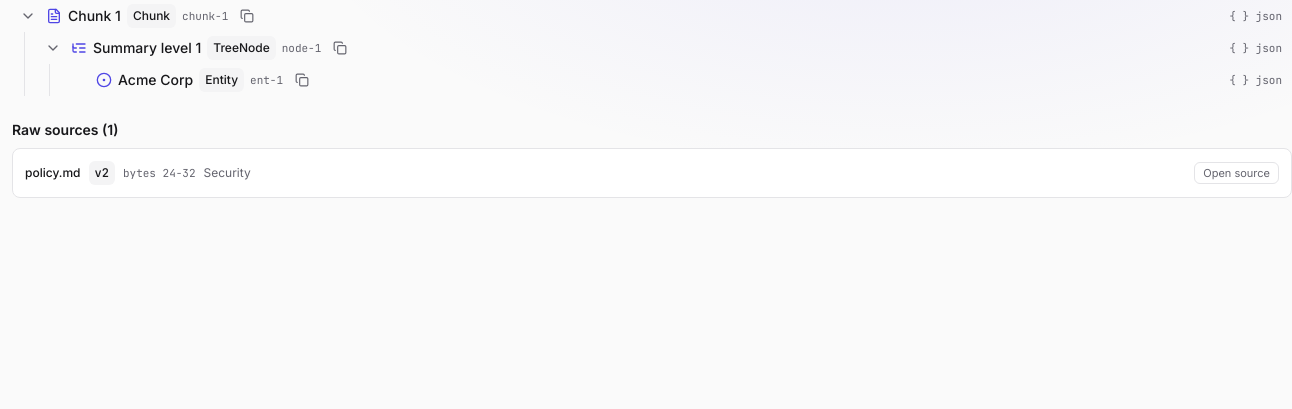
Test: ProofTree › renders_nested_nodes_and_raw_sources
Expected: the text "Chunk 1" is shown, x1=68 y1=6 x2=121 y2=26
Expected: the text "Summary level 1" is shown, x1=93 y1=38 x2=201 y2=58
// collapse hides descendants
What coordinates should you click on to do the following:
click the button named "collapse chunk 1"
I would click on:
 (28, 16)
Its box is x1=16 y1=4 x2=40 y2=28.
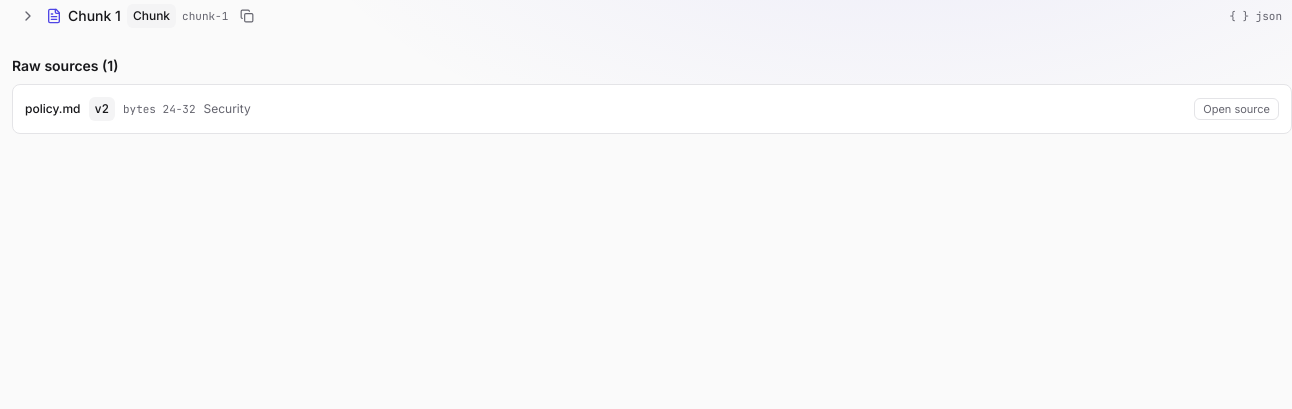
Expected: the text "Acme Corp" is gone
What coordinates should you click on to do the following:
click the button named "expand chunk 1"
I would click on:
 (28, 16)
Its box is x1=16 y1=4 x2=40 y2=28.
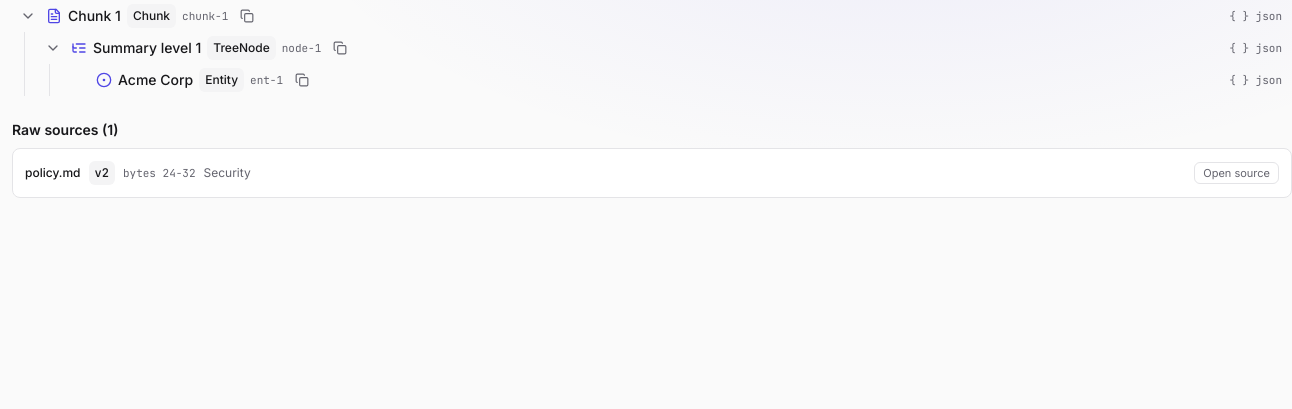
Expected: the text "\"entity_type\"" is not shown
Expected: the text "Acme Corp" is shown, x1=118 y1=70 x2=193 y2=90
What coordinates should you click on to do the following:
click the button with aria-label "show metadata"
I would click on:
 (1256, 80)
Its box is x1=1223 y1=72 x2=1288 y2=88.
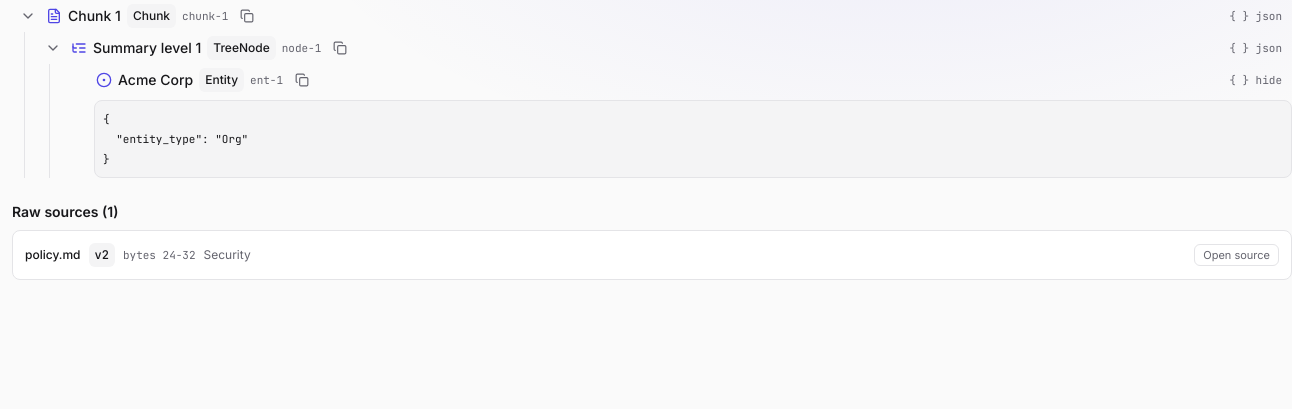
Expected: the text "{ \"entity_type\": \"Org\" }" is shown, x1=94 y1=100 x2=1291 y2=178
// raw source opens the viewer at the byte range
What coordinates should you click on to do the following:
click the button with aria-label "show source for policy.md"
I would click on:
 (1237, 255)
Its box is x1=1194 y1=244 x2=1279 y2=266.
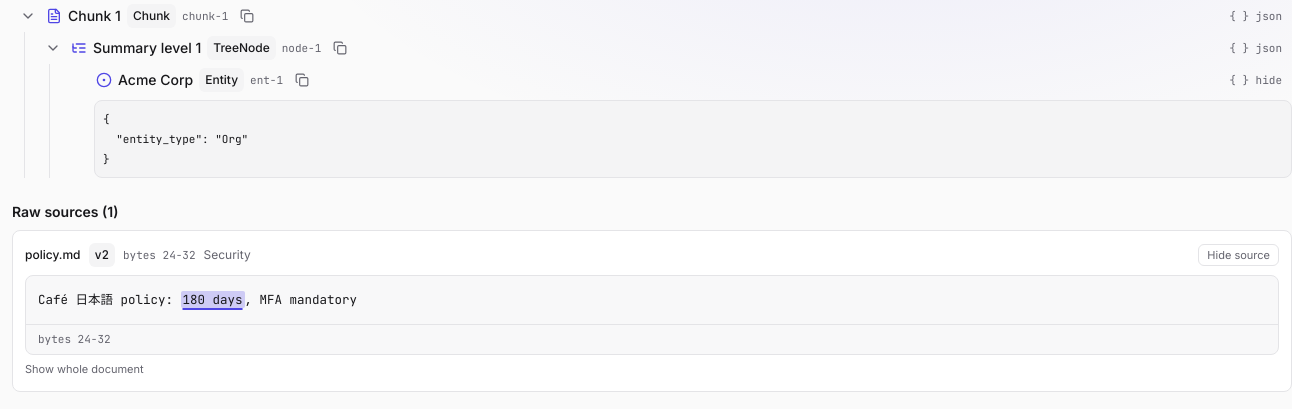
Expected: the text with test id "source-highlight" reads "180 days", x1=182 y1=291 x2=242 y2=308
